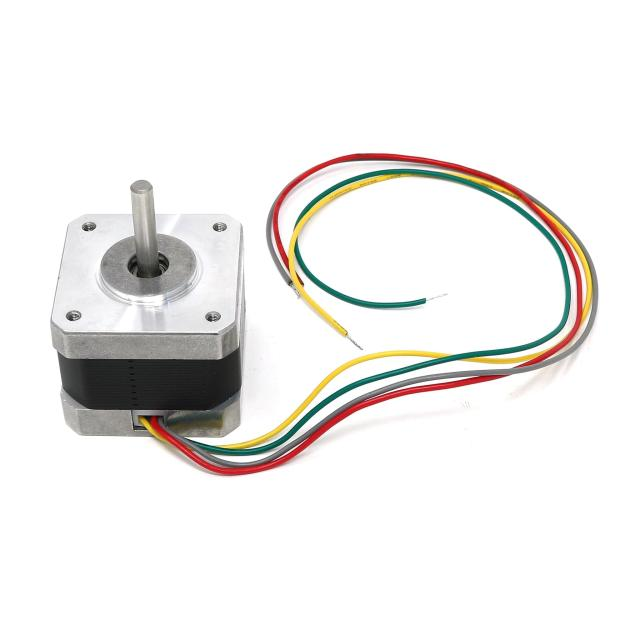motor: (52, 179, 248, 435)
